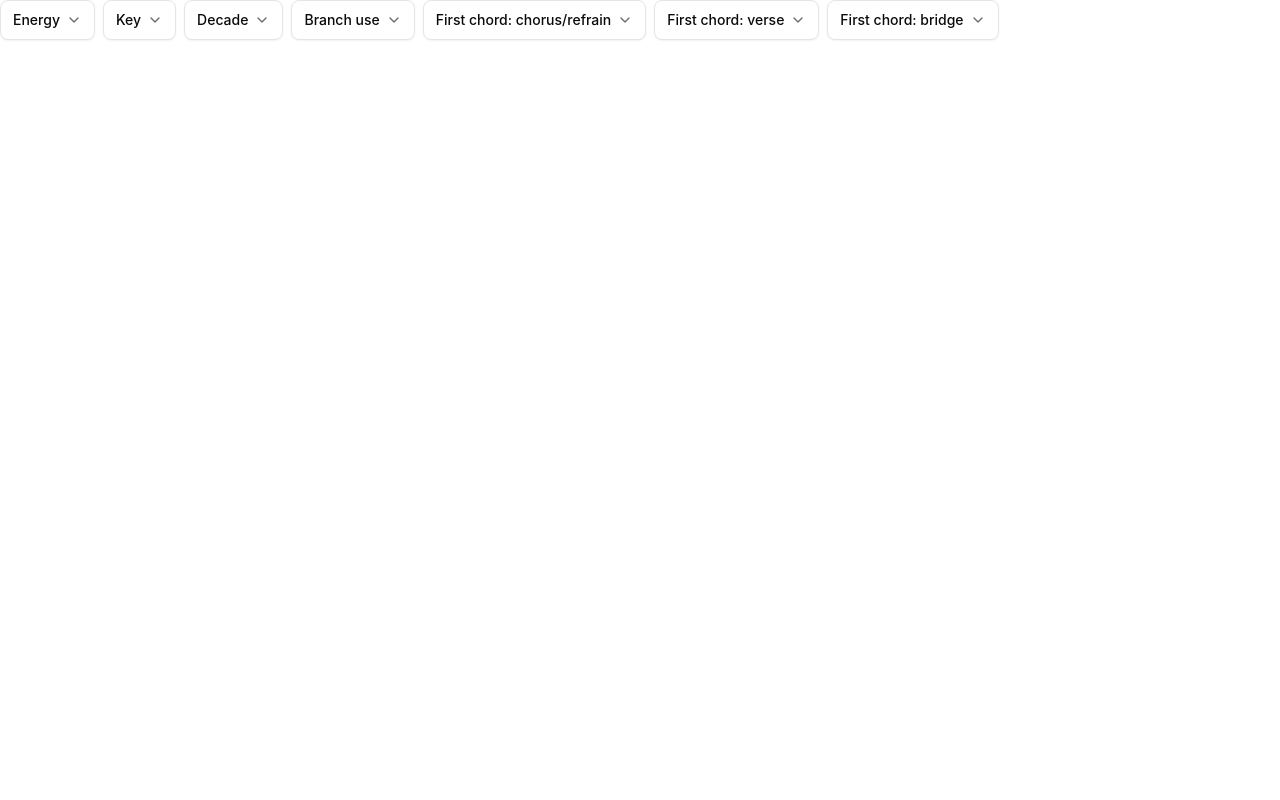
Test case: FilterBar on desktop › lists every energy level with its label and a color swatch
This screenshot has width=1280, height=800.
Click the button "Energy" at [48, 20], box [0,0,95,40]
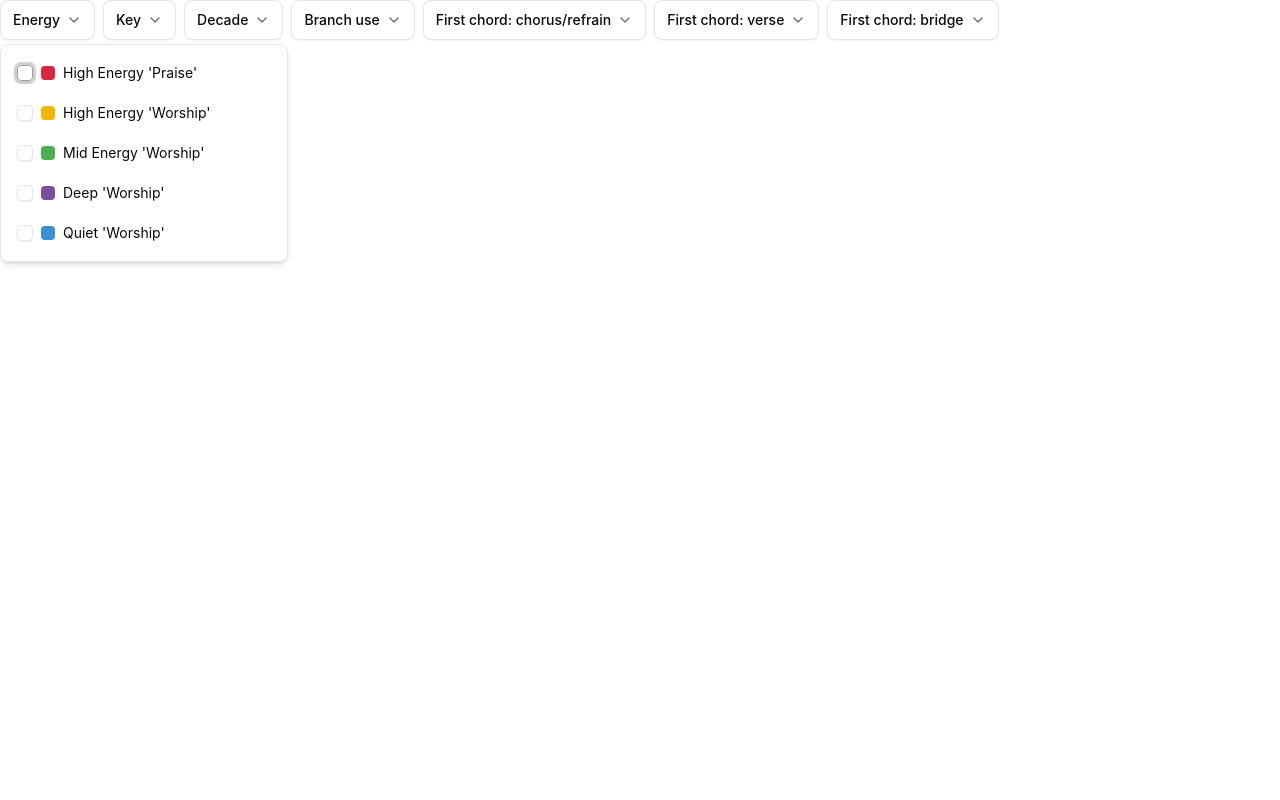
Expected: the number of checkboxes is 5, [17,65,33,81]; [17,105,33,121]; [17,145,33,161]; [17,185,33,201]; [17,225,33,241]
Expected: the checkbox named "High Energy 'Praise'" next to "High Energy 'Praise'" is shown, [17,65,33,81]
Expected: the checkbox named "High Energy 'Worship'" next to "High Energy 'Worship'" is shown, [17,105,33,121]
